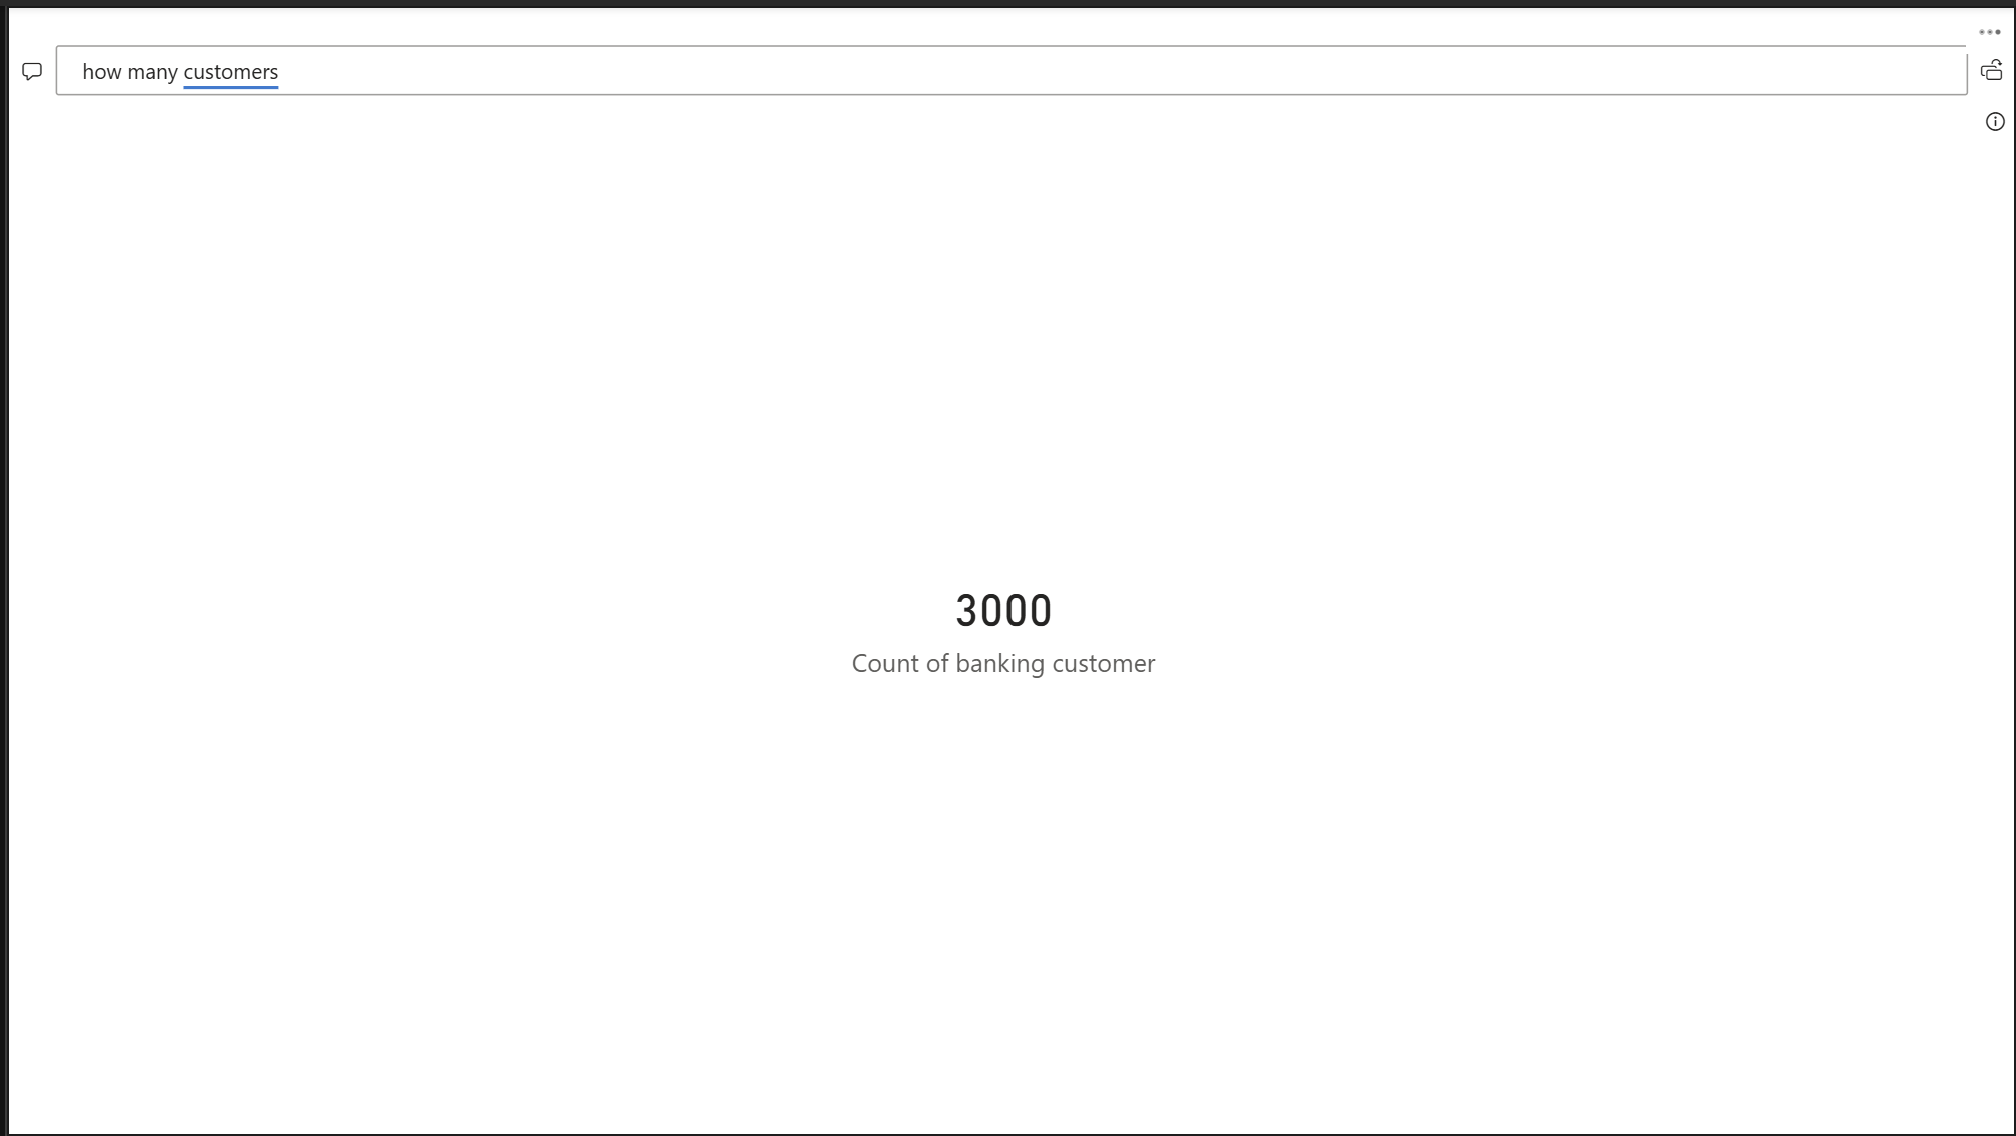

The dashboard page shown, as its layout file describes it:
{"tool":"powerbi","page":{"name":"Ask any Questions","canvas":[1280,720],"ordinal":3},"visuals":[{"type":"qnaVisual","box":[0,0,1280,720],"z":0}]}

Visuals, with their boxes on the page's 1280x720 design canvas (x1, y1, x2, y2). These are canvas units, not pixel positions in the 2016x1136 screenshot, which may show the page scaled, cropped or inside an application window:
qnaVisual: detection(0, 0, 1280, 720)
